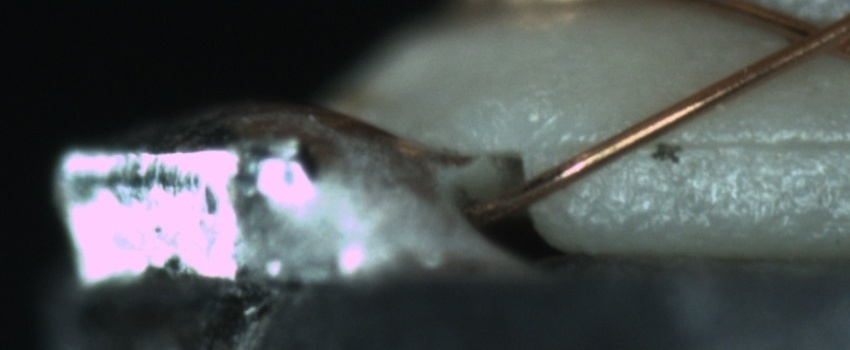CL: (773, 7, 849, 65)
DL: (605, 111, 850, 176)
